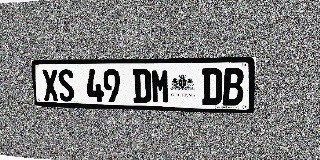4: (86, 69, 104, 102)
9: (103, 69, 121, 102)
B: (222, 68, 244, 106)
D: (202, 68, 222, 105), (132, 69, 151, 103)
M: (151, 69, 170, 104)
S: (57, 69, 75, 101)
X: (42, 69, 59, 101)
